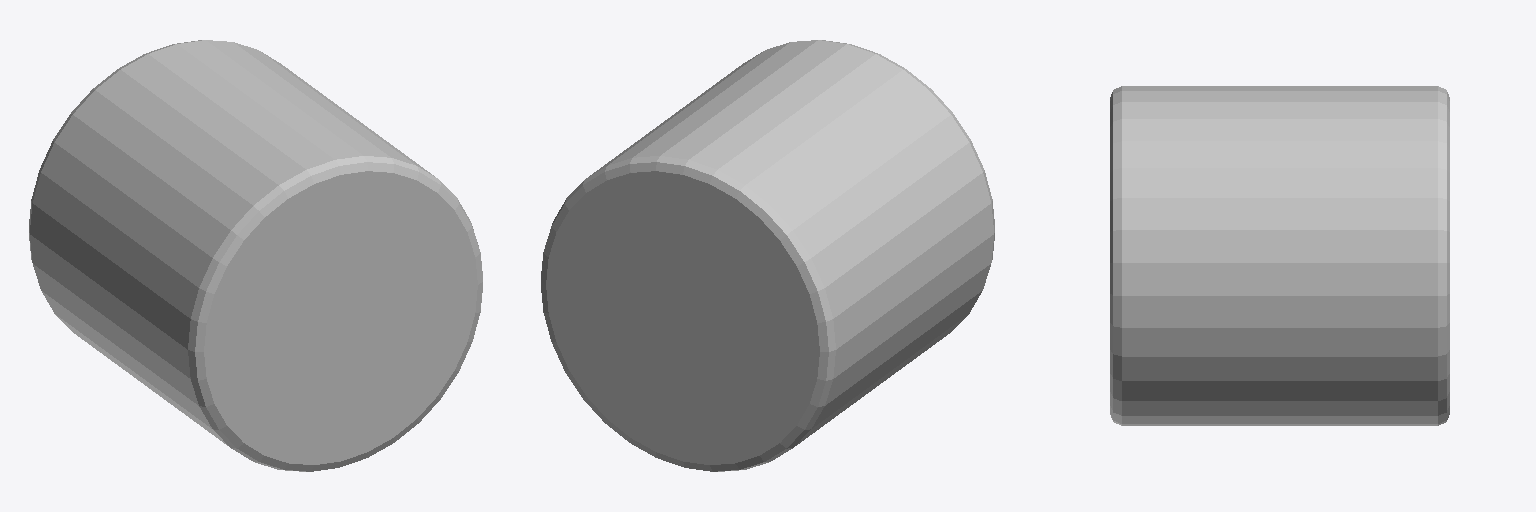
The model's file is high_cylinder_forward_low.obj.
3 views of the same model, side by side, from view 1: azimuth 30°, elevation 25°; view 2: azimuth 150°, elevation 25°; view 3: azimuth 270°, elevation 25° (orthographic).
Visible parts, largest first — view 1: Cylinder; view 2: Cylinder; view 3: Cylinder.
Boxes of the visible parts, x1,y1,x2,y2 form: Cylinder: [29, 40, 482, 471]; Cylinder: [541, 40, 994, 471]; Cylinder: [1110, 86, 1449, 425].
Size of the model in its own units: 2 by 2 by 2.